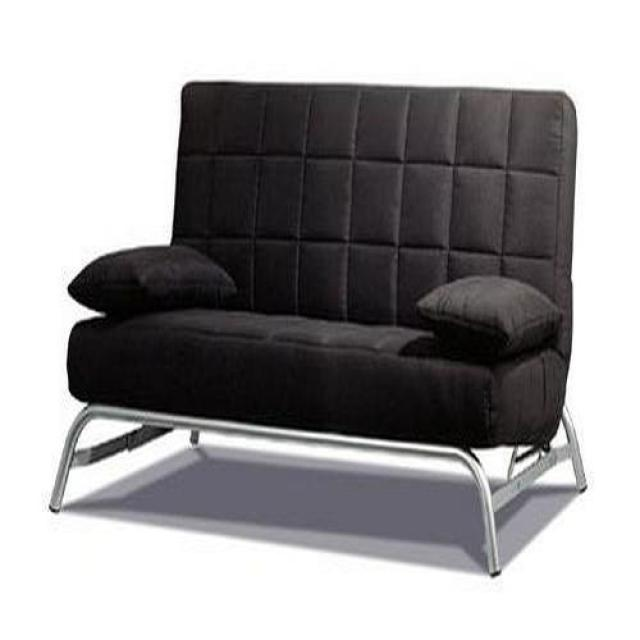sofa: (50, 82, 584, 577)
